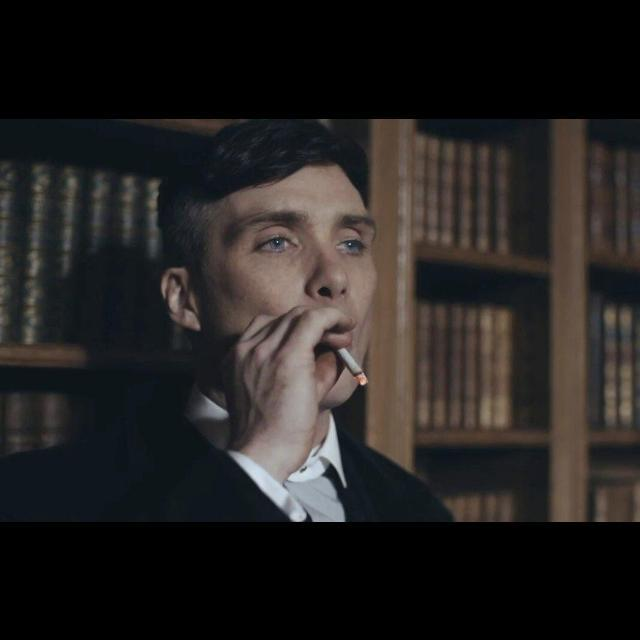rokok: (330, 341, 370, 387)
